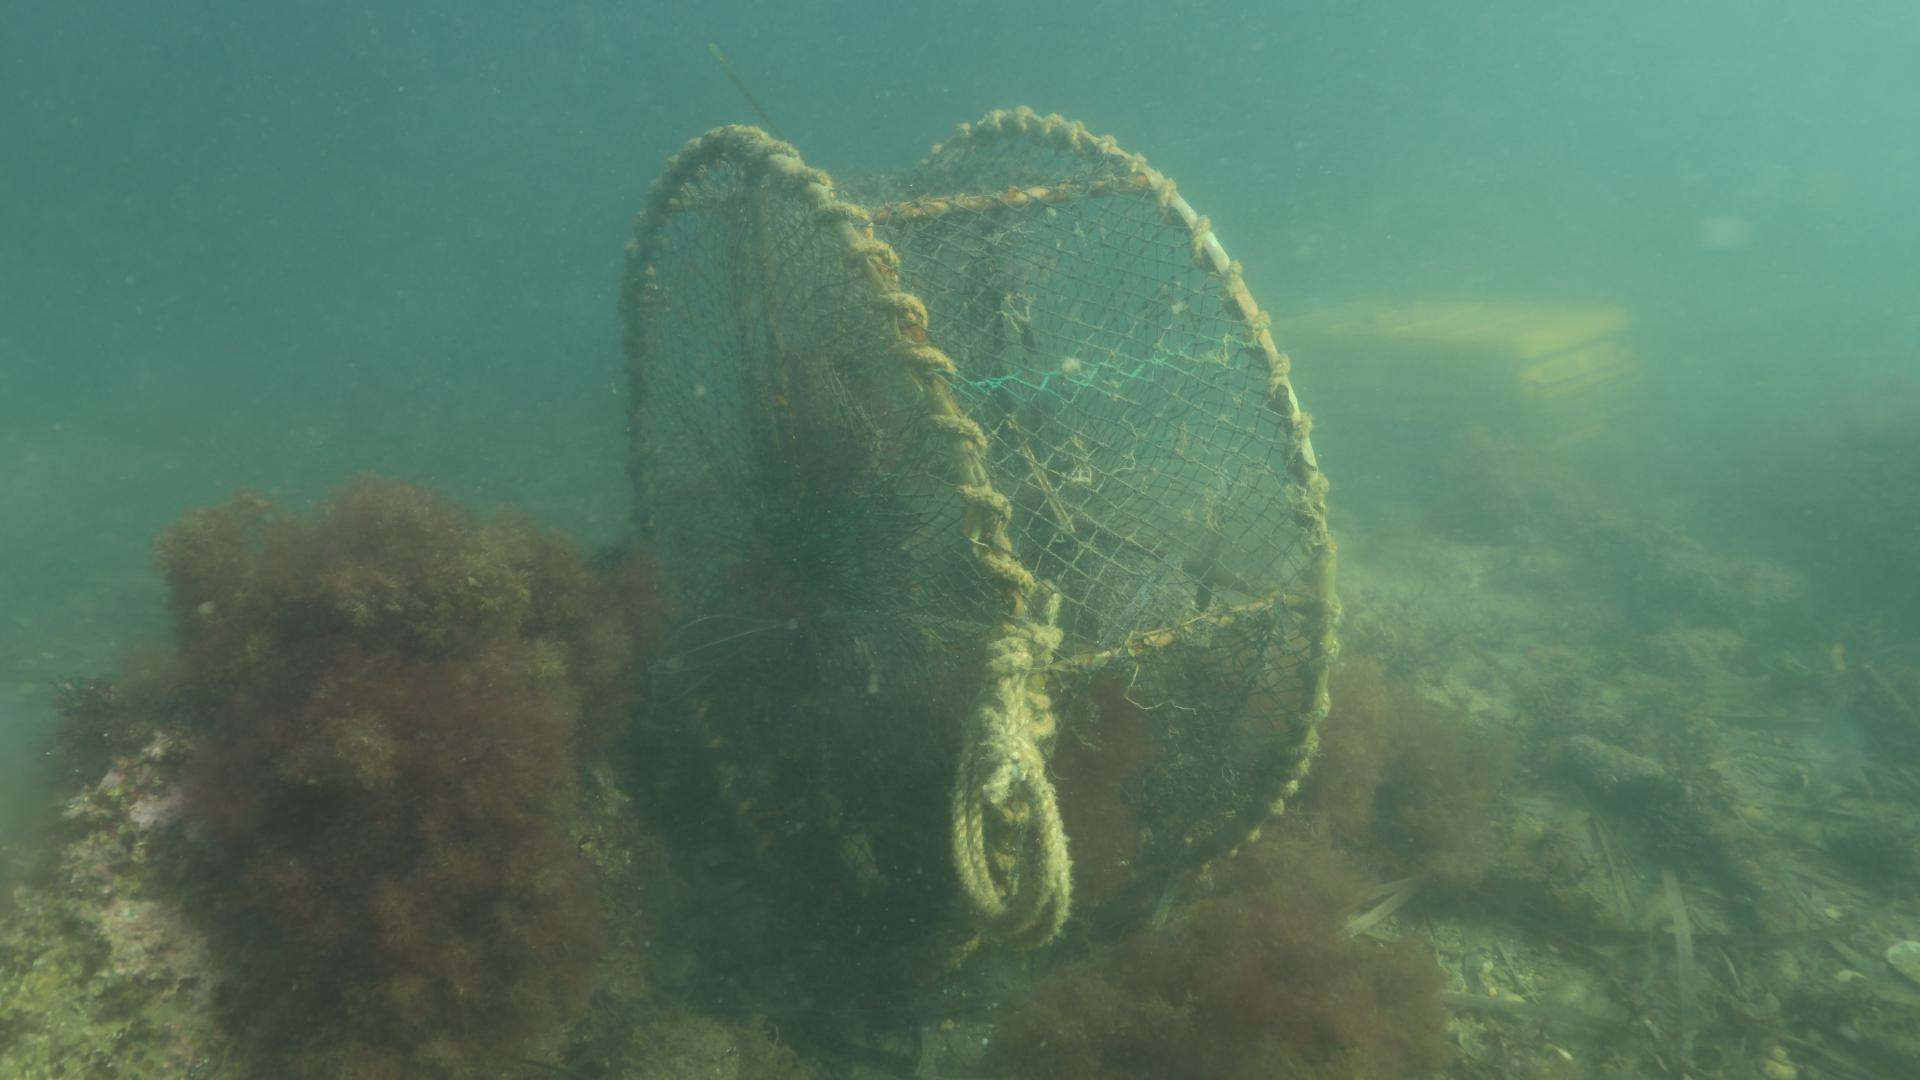circular fish trap: (621, 104, 1342, 982)
